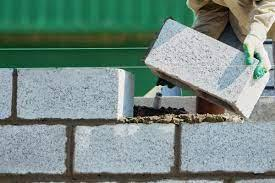brick: (145, 19, 260, 103), (16, 66, 122, 119), (74, 123, 174, 173), (182, 121, 274, 173), (0, 125, 66, 175)
